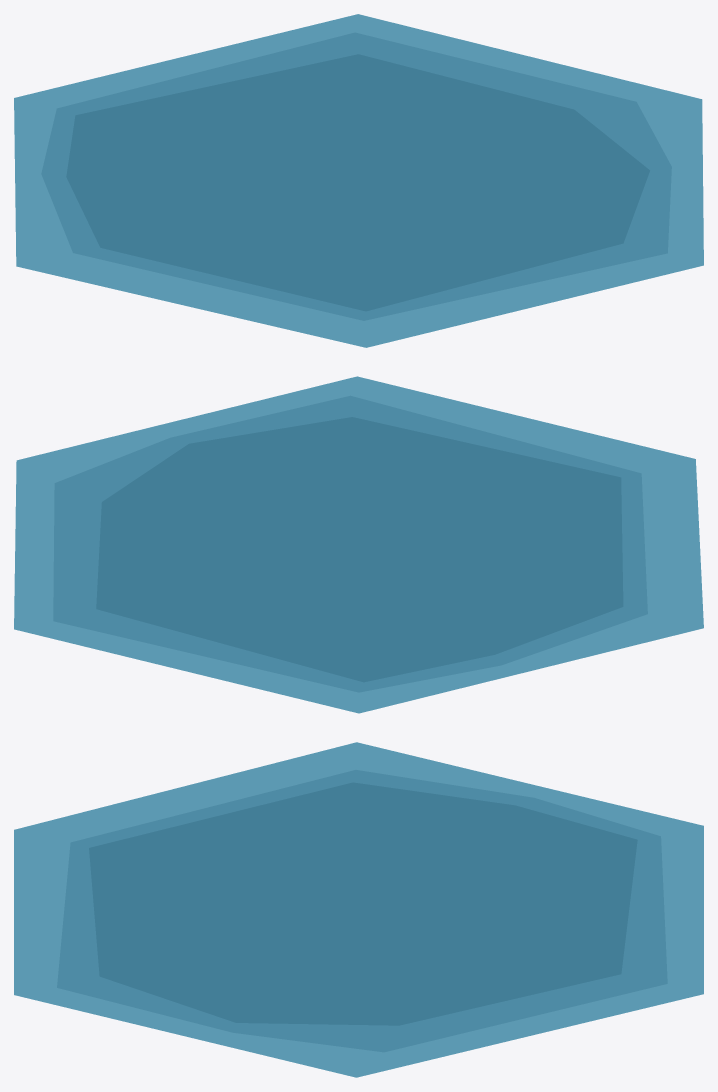
Rendered from kd_stage_135fe0_0_32.glb.
3 renders of one model, top to bottom at view 1: azimuth 30°, elevation 25°; view 2: azimuth 150°, elevation 25°; view 3: azimuth 270°, elevation 25°, orthographic.
Visible parts, largest first — view 1: kd_stage_135fe0_0_32; view 2: kd_stage_135fe0_0_32; view 3: kd_stage_135fe0_0_32.
Part boxes in pixels (x1,y1,x2,y2): kd_stage_135fe0_0_32: [14, 14, 703, 347]; kd_stage_135fe0_0_32: [14, 376, 703, 713]; kd_stage_135fe0_0_32: [14, 742, 703, 1077].
Size of the model in its own units: 19.04 by 9.54e-07 by 16.55.
Materials: 1 (1 with a texture image).
